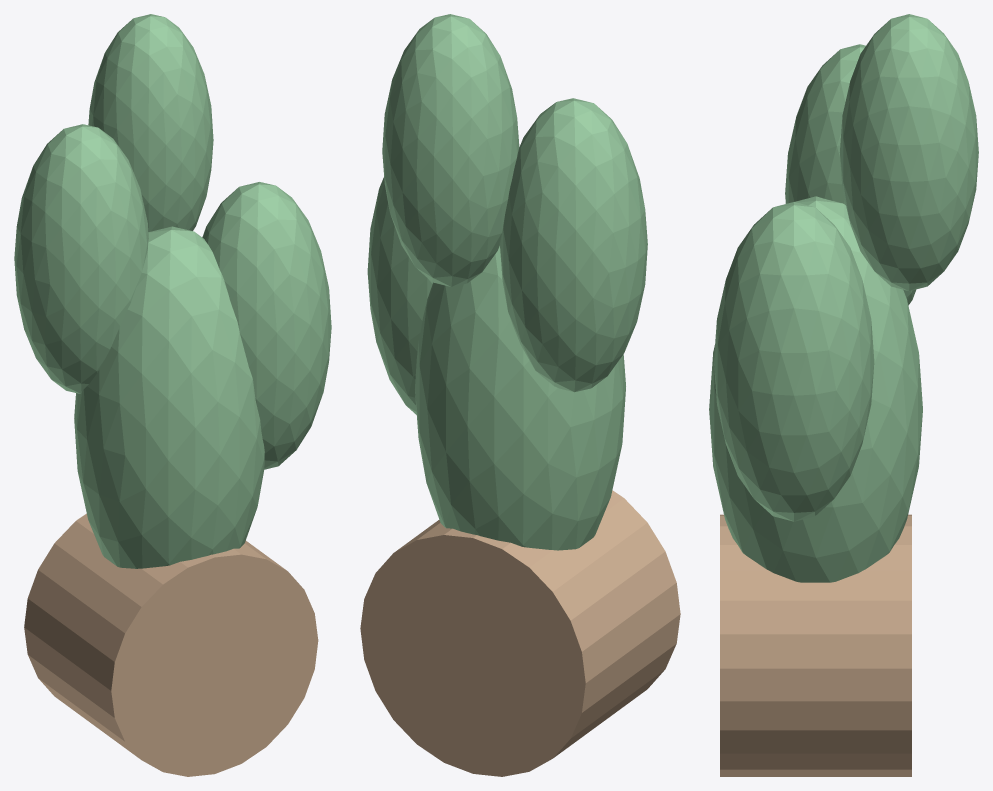
The model's file is plant.glb.
3 views of the same model, side by side, from view 1: azimuth 30°, elevation 25°; view 2: azimuth 150°, elevation 25°; view 3: azimuth 270°, elevation 25° (orthographic). The views are drawn at different scales.
Visible parts, largest first — view 1: pot, leaf_0, leaf_2, leaf_1, leaf_3; view 2: pot, leaf_0, leaf_2, leaf_3, leaf_1; view 3: pot, leaf_1, leaf_3, leaf_0, leaf_2.
Part boxes in pixels (x1=…): pot: x1=24, y1=513, x2=318, y2=776; leaf_0: x1=74, y1=226, x2=264, y2=568; leaf_2: x1=14, y1=124, x2=148, y2=393; leaf_1: x1=202, y1=182, x2=331, y2=469; leaf_3: x1=88, y1=14, x2=213, y2=231; pot: x1=360, y1=490, x2=680, y2=776; leaf_0: x1=415, y1=246, x2=625, y2=550; leaf_2: x1=500, y1=98, x2=647, y2=392; leaf_3: x1=382, y1=14, x2=519, y2=286; leaf_1: x1=367, y1=177, x2=432, y2=414; pot: x1=720, y1=514, x2=911, y2=776; leaf_1: x1=714, y1=202, x2=874, y2=521; leaf_3: x1=839, y1=14, x2=978, y2=291; leaf_0: x1=709, y1=196, x2=922, y2=582; leaf_2: x1=785, y1=44, x2=915, y2=305.
Size of the model in its own units: 0.6227 by 1.53 by 0.4918.
